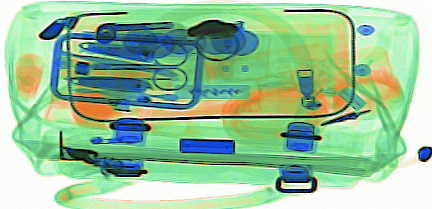scissors: (89, 41, 188, 91)
